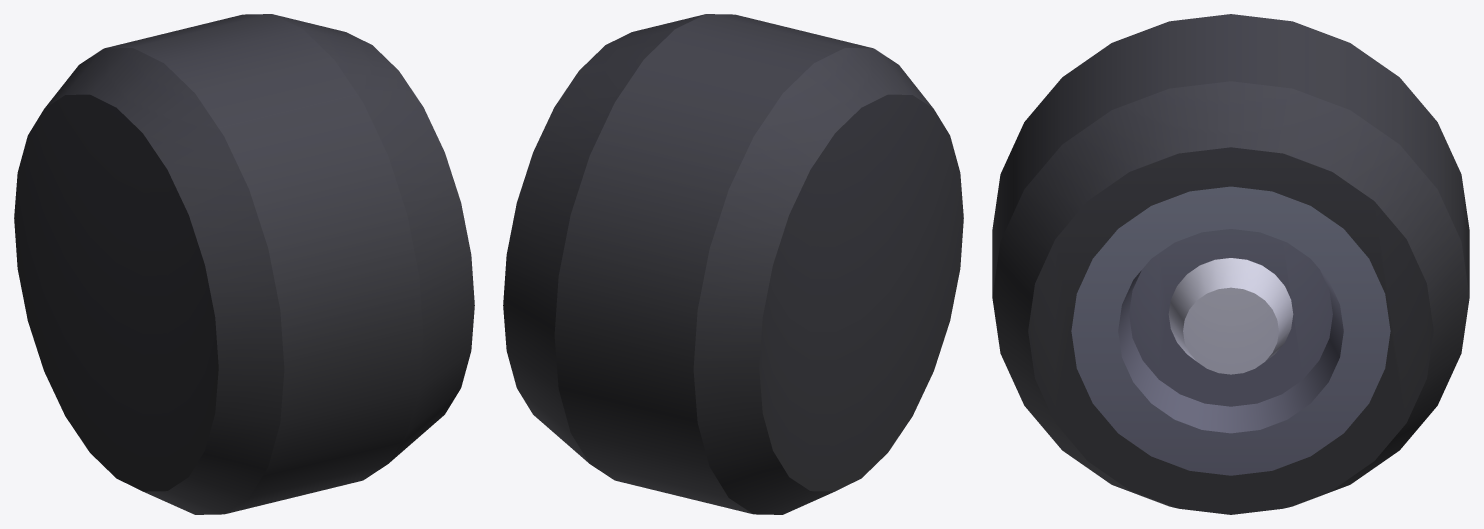
File: wheel-tractor-dark-back.glb
3 views of the same model, side by side, from view 1: azimuth 30°, elevation 25°; view 2: azimuth 150°, elevation 25°; view 3: azimuth 270°, elevation 25° (orthographic).
Parts seen in each view (by area): view 1: wheel-tractor-dark-back; view 2: wheel-tractor-dark-back; view 3: wheel-tractor-dark-back.
Part boxes in pixels (box(x1,y1,x2,y2)): wheel-tractor-dark-back: box(14, 14, 474, 514); wheel-tractor-dark-back: box(503, 14, 963, 514); wheel-tractor-dark-back: box(992, 14, 1469, 514).
Bounding box in the file's own units: 0.5376 × 0.8752 × 0.8752.
Materials: 1 (1 with a texture image).
